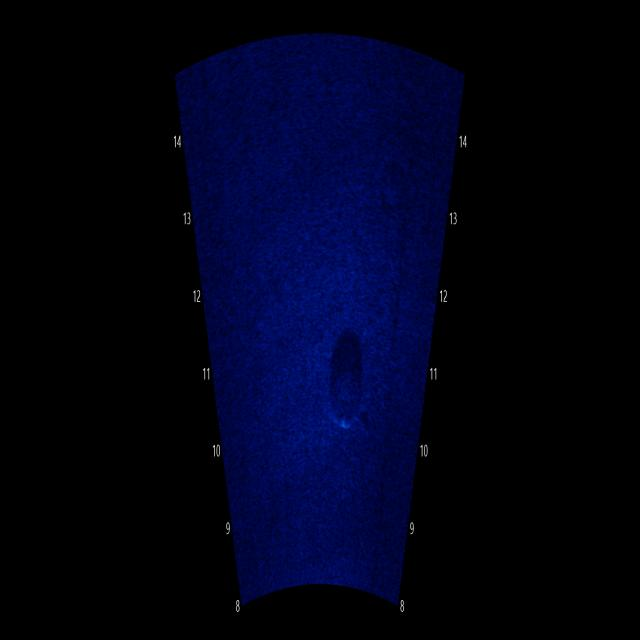circle: (320, 352, 367, 438)
